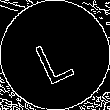L_NW: (30, 26, 80, 84)
